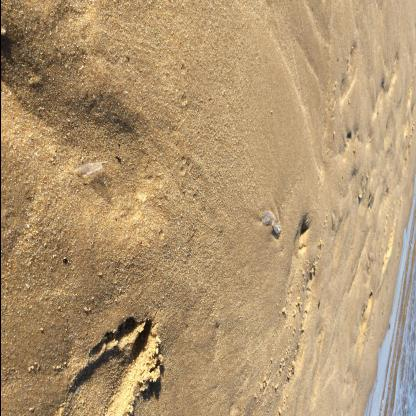plastik: (73, 160, 108, 176), (261, 211, 281, 234)
